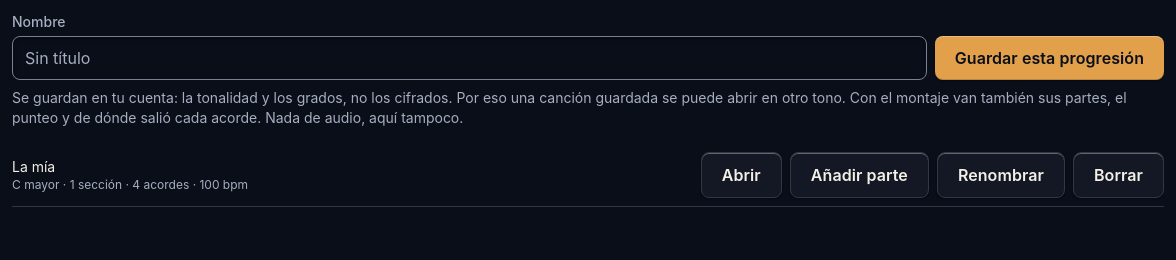
añadir una parte › sin acordes encadenados no añade nada
The image size is (1176, 260).
expect the text "La mía" is shown: met, box [12,158,55,175]
Click the button "Añadir parte" at (859, 175), box [790,152,929,198]
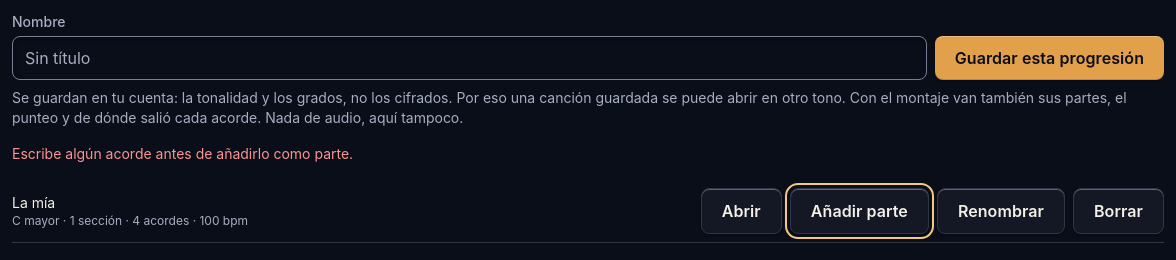
expect the message shows "Escribe algún acorde": met, box [12,145,353,162]
